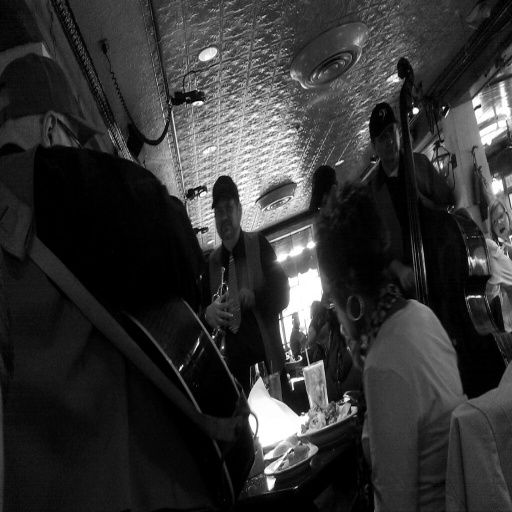hand: (205, 288, 233, 335), (397, 263, 416, 298), (237, 288, 255, 309)
